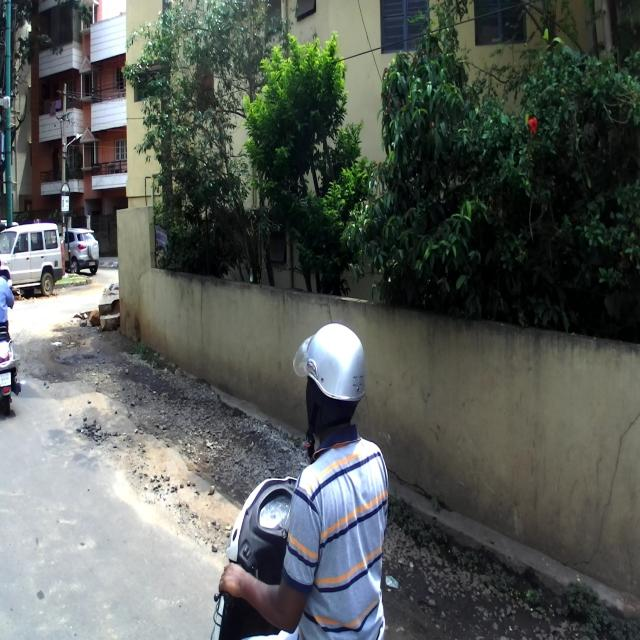car: (0, 220, 63, 294), (60, 226, 100, 276)
scooter: (213, 471, 330, 639), (0, 314, 22, 418)
